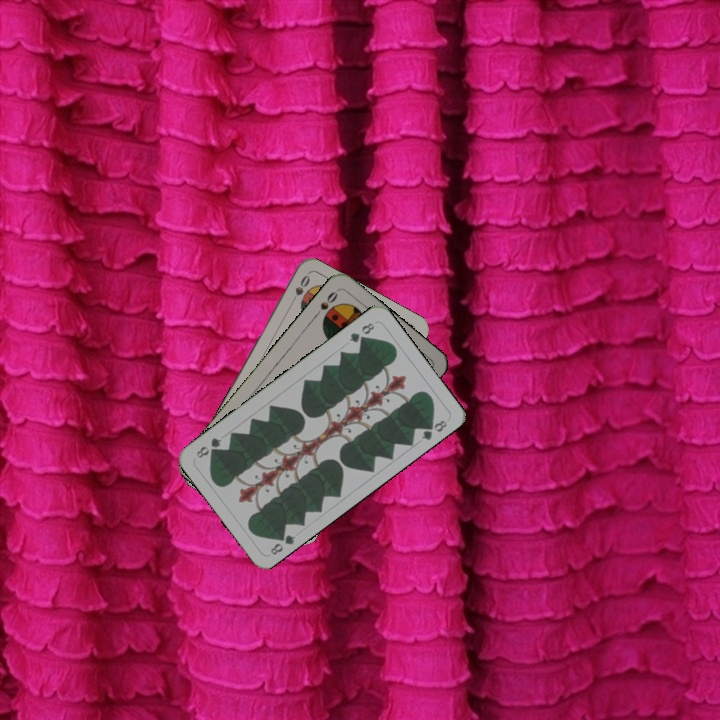G8: (266, 528, 298, 558), (345, 318, 377, 345)
SO: (286, 271, 313, 308), (311, 287, 340, 319)
